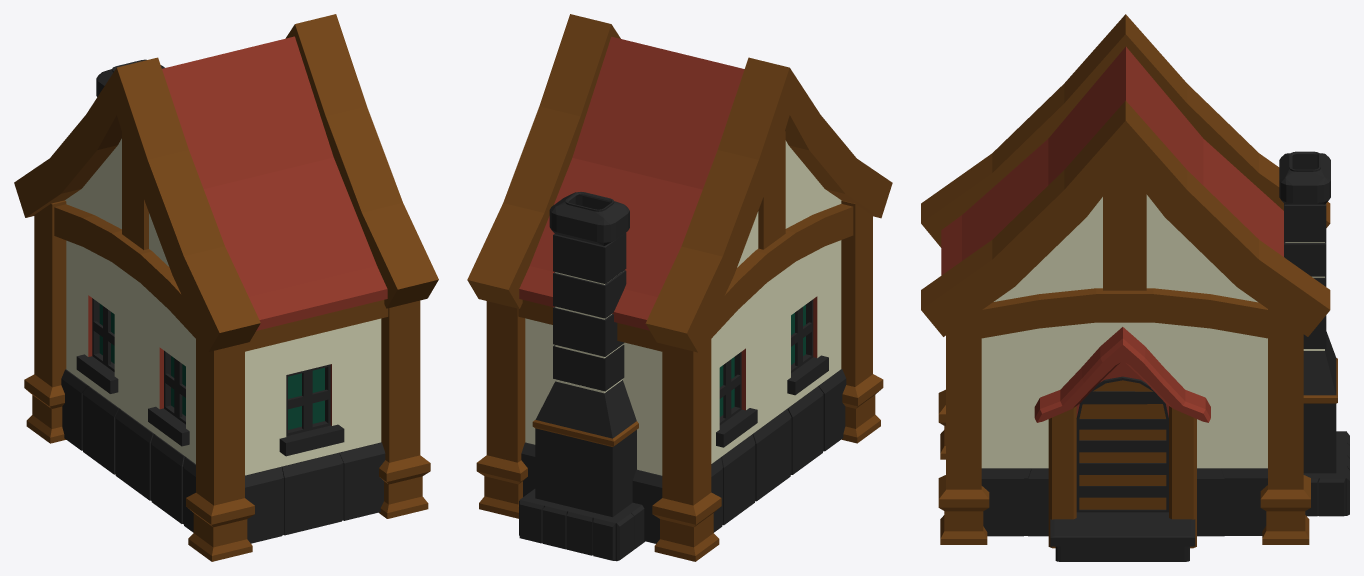
The model's file is House1.fbx.
3 views of the same model, side by side, from view 1: azimuth 30°, elevation 25°; view 2: azimuth 150°, elevation 25°; view 3: azimuth 270°, elevation 25° (orthographic).
Visible parts, largest first — view 1: Cube.003; view 2: Cube.003; view 3: Cube.003.
Boxes of the visible parts, x1=… form: Cube.003: x1=14, y1=14, x2=438, y2=561; Cube.003: x1=467, y1=14, x2=892, y2=561; Cube.003: x1=921, y1=14, x2=1349, y2=561.
Bounding box in the file's own units: 893 × 1395 × 1276.
